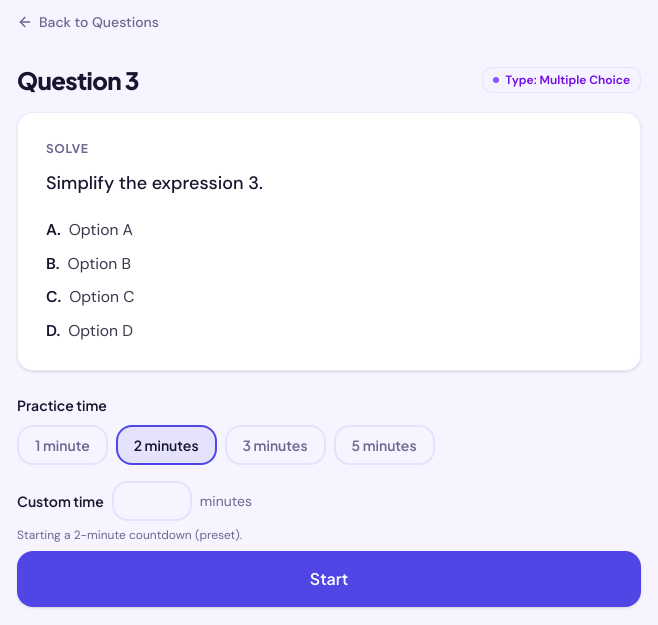
Test case: Try Question practice screen › stops at 00:00 without submitting, navigating, or revealing the answer
Step 1. Click the button "1 minute" → point(62, 445), box [17,425,108,465]
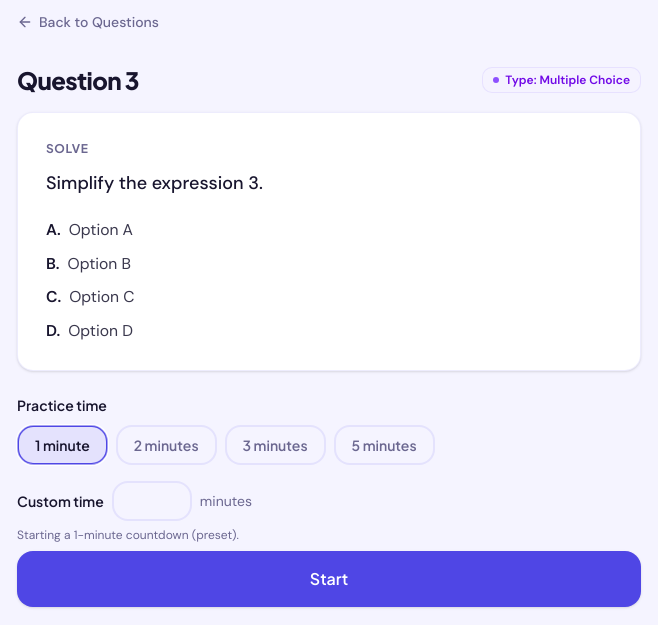
Step 2. Click the button "Start" → point(329, 579), box [17,551,641,607]
Wait 75000 ms
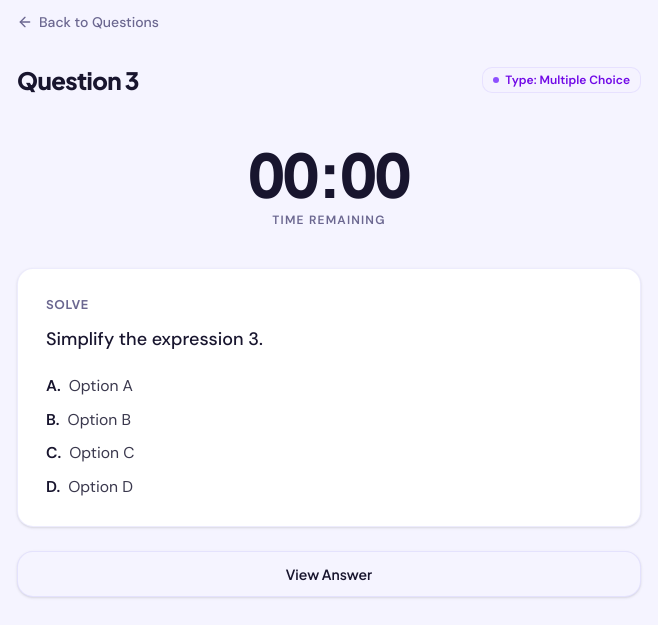
Check: the text "Simplify the expression 3." is shown, box [46,327,263,351]
Check: the text "00:00" is shown, box [248,144,410,204]
Check: the button "View Answer" is shown, box [17,551,641,597]
